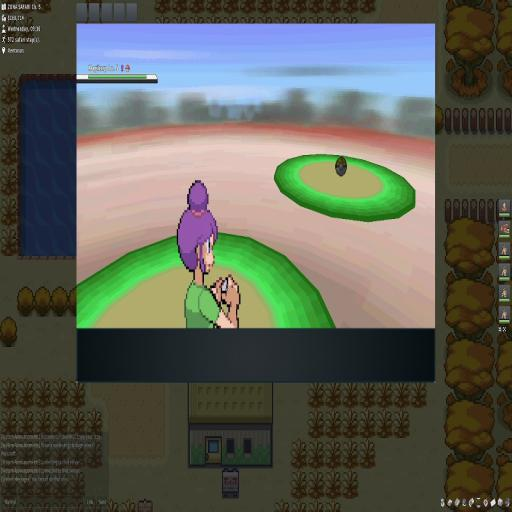SUCESSFULCAPTURE: (333, 154, 350, 179)
